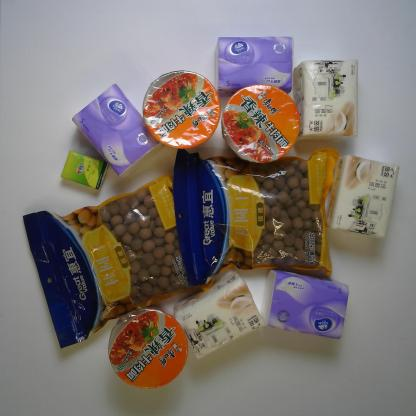Dried Food: (20, 172, 218, 350), (172, 148, 334, 288)
Instant Noodles: (107, 304, 189, 390), (220, 83, 301, 165), (142, 70, 222, 150)
Tissue: (174, 268, 267, 361), (71, 83, 160, 177), (324, 154, 401, 240), (262, 268, 350, 341), (292, 57, 360, 141), (213, 36, 296, 98), (60, 149, 110, 192)
